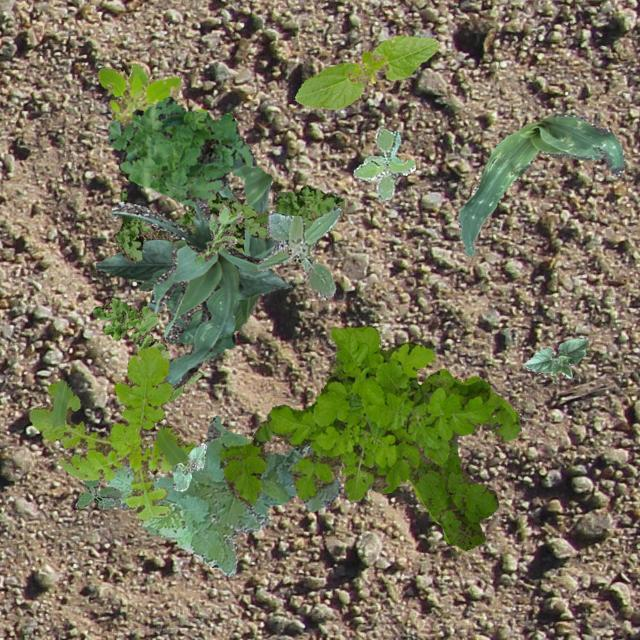crop: (110, 196, 260, 388), (456, 114, 624, 255), (166, 154, 274, 348), (94, 238, 290, 314), (294, 34, 438, 109), (522, 336, 588, 376), (170, 442, 206, 489)
weed: (218, 326, 520, 504), (106, 414, 340, 576), (28, 346, 194, 520), (113, 184, 344, 262), (106, 96, 255, 204), (91, 296, 200, 402), (408, 436, 498, 550), (256, 206, 340, 296), (96, 61, 182, 126), (352, 124, 414, 200), (195, 204, 242, 264), (75, 476, 122, 508)
